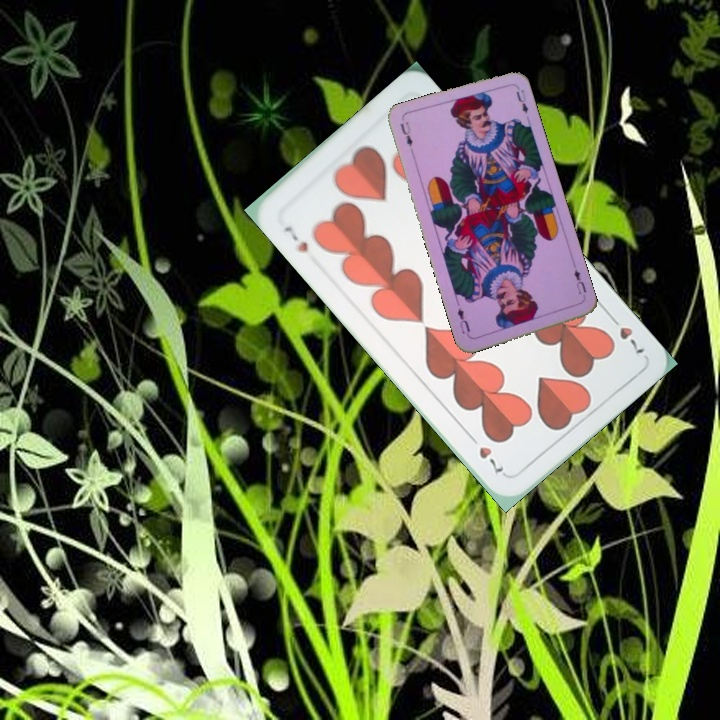EU: (570, 265, 589, 297), (396, 118, 415, 149)
H7: (604, 310, 648, 357), (280, 222, 311, 257)
